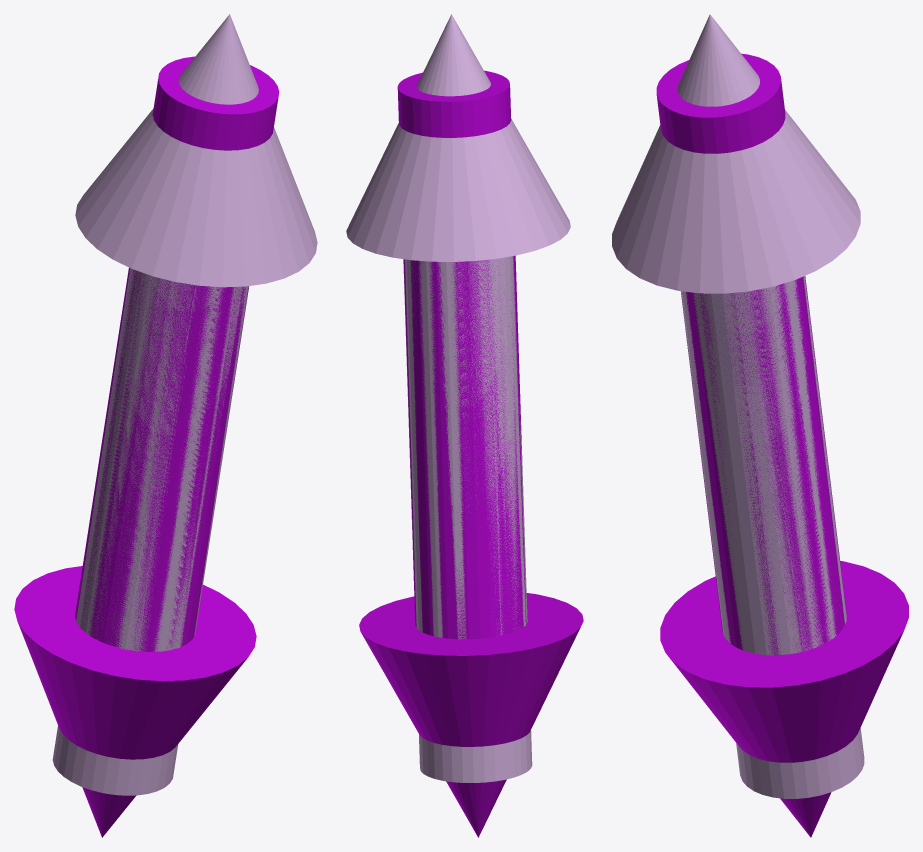
The model's file is opt_res.glb.
3 renders of one model, left to right at view 1: azimuth 30°, elevation 25°; view 2: azimuth 150°, elevation 25°; view 3: azimuth 270°, elevation 25°, orthographic. The views are drawn at different scales.
Parts seen in each view (by area): view 1: world; view 2: world; view 3: world.
Boxes of the visible parts, x1,y1,x2,y2 form: world: [14, 14, 317, 837]; world: [346, 14, 583, 837]; world: [612, 14, 908, 837].
Bounding box in the file's own units: 0.00935 × 0.0303 × 0.00946.
